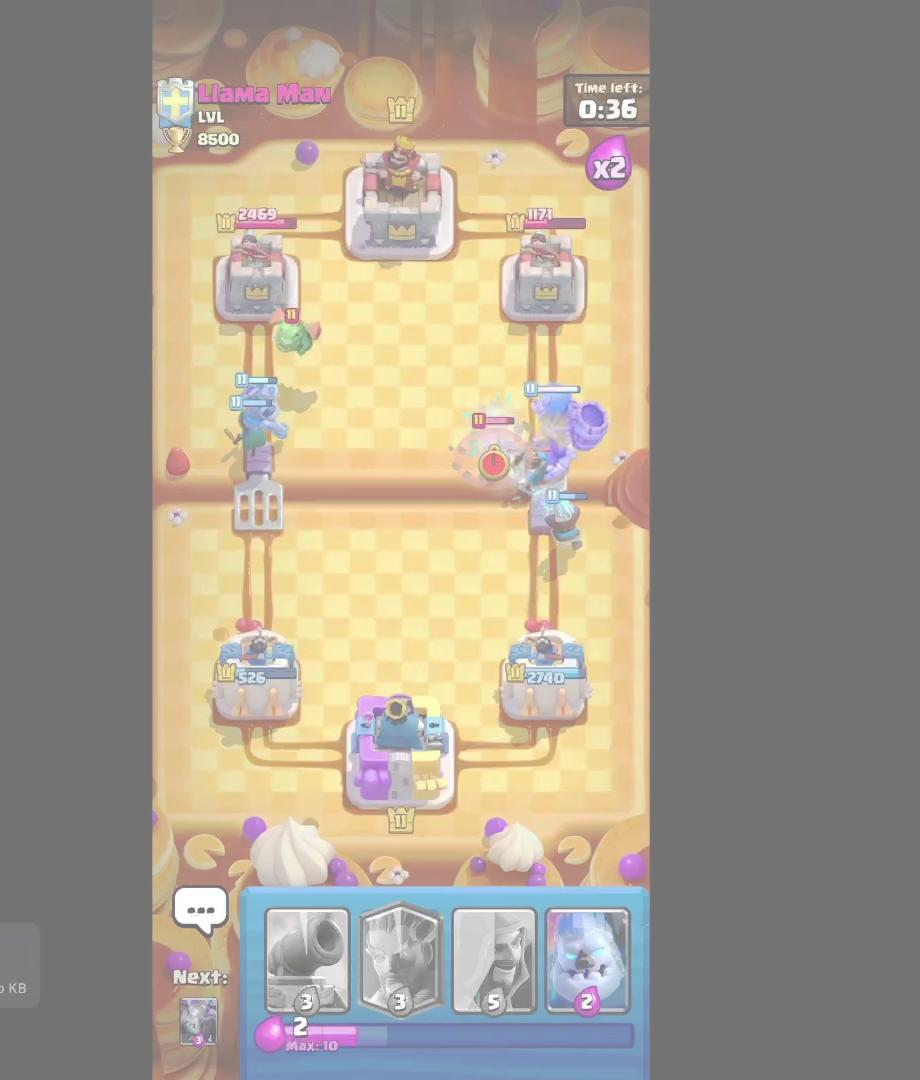Baby Dragon: (266, 305, 327, 363)
Valkyrie: (468, 410, 518, 490)
